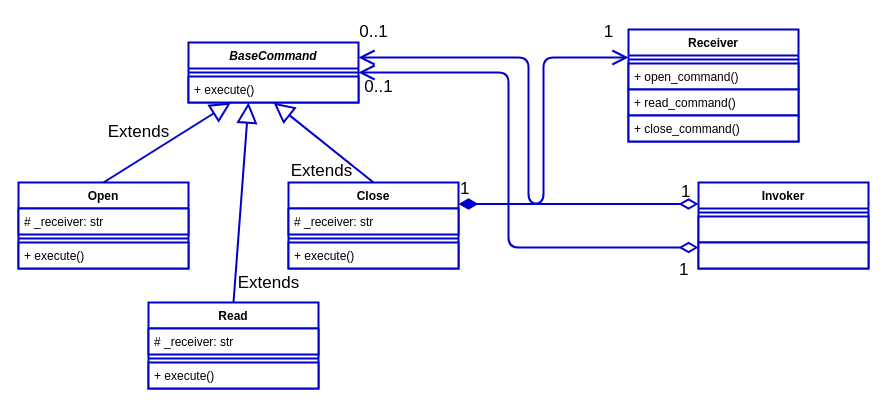
This 886x408 diagram has some shape labels left out. The centre of each missing label's shape, as x and y in pixels:
"+ execute(str)" belongs at point (783, 255).
"+register(str)" belongs at point (783, 229).
